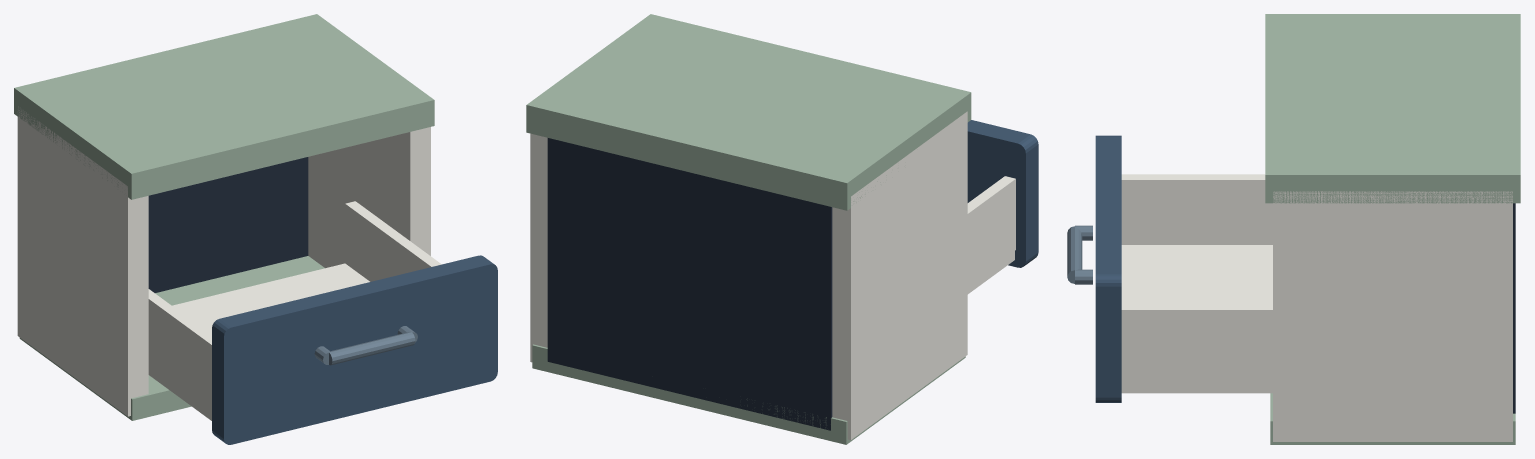
File: drawer.glb
3 renders of one model, left to right at view 1: azimuth 30°, elevation 25°; view 2: azimuth 150°, elevation 25°; view 3: azimuth 270°, elevation 25°, orthographic. The views are drawn at different scales.
Visible parts, largest first — view 1: top, drawer front, side -0.68, back, side 0.68, tray, tray side -0.59, tray side 0.59, bottom, drawer grip1; view 2: back, top, side -0.68, drawer front, bottom, tray side -0.59, side 0.68; view 3: side 0.68, top, tray side 0.59, tray, tray side -0.59, drawer front, bottom, drawer grip1, back.
Boxes of the visible parts, bbox=[...] form: top: bbox=[14, 14, 434, 199]; drawer front: bbox=[212, 255, 497, 444]; side -0.68: bbox=[17, 106, 148, 416]; back: bbox=[148, 157, 308, 292]; side 0.68: bbox=[308, 127, 430, 268]; tray: bbox=[148, 263, 369, 420]; tray side -0.59: bbox=[148, 289, 211, 411]; tray side 0.59: bbox=[345, 201, 441, 281]; bottom: bbox=[19, 256, 324, 420]; drawer grip1: bbox=[329, 332, 415, 365]; back: bbox=[547, 138, 832, 430]; top: bbox=[526, 14, 971, 210]; side -0.68: bbox=[832, 111, 967, 439]; drawer front: bbox=[967, 120, 1038, 267]; bottom: bbox=[532, 344, 965, 444]; tray side -0.59: bbox=[967, 176, 1015, 284]; side 0.68: bbox=[530, 133, 547, 362]; side 0.68: bbox=[1273, 191, 1512, 441]; top: bbox=[1265, 14, 1520, 203]; tray side 0.59: bbox=[1121, 304, 1272, 383]; tray: bbox=[1121, 245, 1272, 393]; tray side -0.59: bbox=[1121, 174, 1272, 244]; drawer front: bbox=[1095, 135, 1121, 402]; bottom: bbox=[1270, 393, 1515, 444]; drawer grip1: bbox=[1067, 226, 1082, 283]; back: bbox=[1513, 203, 1515, 413].
Size of the model in its own units: 1.46 by 1.15 by 1.74.
